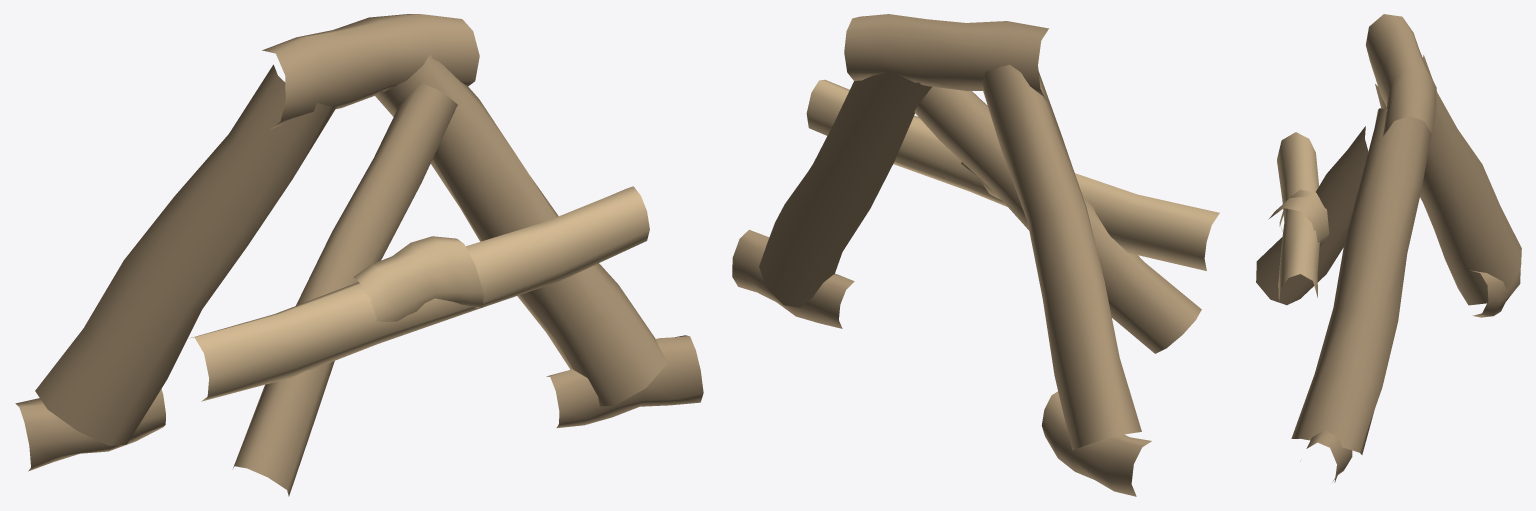
The model's file is forked-timber-reliquary-trestle-v0.glb.
The picture shows the model from 3 angles, left to right: view 1: azimuth 30°, elevation 25°; view 2: azimuth 150°, elevation 25°; view 3: azimuth 270°, elevation 25°; orthographic projection. The views are drawn at different scales.
Parts seen in each view (by area): view 1: reliquary_trestle_body, sacrificial_crossbrace; view 2: reliquary_trestle_body, sacrificial_crossbrace; view 3: reliquary_trestle_body, sacrificial_crossbrace.
Part boxes in pixels (x1,y1,x2,y2): reliquary_trestle_body: (15,14,703,496); sacrificial_crossbrace: (190,186,649,401); reliquary_trestle_body: (732,14,1201,496); sacrificial_crossbrace: (806,79,1219,270); reliquary_trestle_body: (1256,14,1521,482); sacrificial_crossbrace: (1268,132,1329,301).
Size of the model in its own units: 1.51 by 1.09 by 0.7497.
